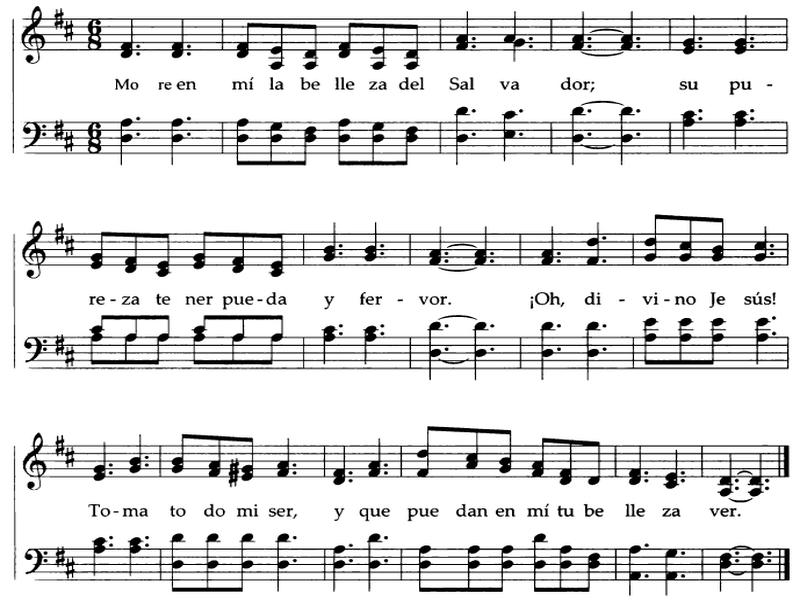C: (415, 421, 445, 482), (262, 20, 294, 72), (227, 113, 256, 170), (262, 109, 289, 170), (525, 430, 554, 481), (396, 124, 428, 170), (294, 116, 321, 170), (187, 225, 216, 274), (119, 230, 149, 277), (155, 228, 181, 282), (167, 429, 198, 474), (488, 541, 514, 594), (77, 233, 109, 274), (675, 212, 699, 266), (643, 211, 667, 263), (705, 216, 731, 264), (456, 544, 479, 597), (233, 14, 257, 64), (466, 426, 491, 474), (399, 17, 422, 69), (333, 20, 360, 64), (368, 20, 390, 73), (557, 437, 579, 490), (335, 119, 357, 171), (414, 547, 437, 596), (363, 119, 388, 164), (231, 231, 255, 275), (301, 21, 322, 71), (637, 317, 657, 369), (577, 549, 600, 594), (210, 434, 231, 482), (583, 441, 602, 494), (84, 334, 109, 373), (266, 232, 287, 277), (497, 427, 516, 474), (553, 544, 571, 593), (205, 560, 227, 599), (240, 431, 256, 484), (260, 333, 286, 365), (672, 316, 688, 365), (86, 307, 113, 335), (188, 334, 208, 370), (226, 333, 247, 367), (118, 335, 138, 369), (150, 332, 169, 365), (707, 315, 719, 366), (234, 559, 253, 591), (190, 312, 216, 335), (156, 314, 176, 342), (270, 312, 286, 344), (230, 314, 248, 342), (530, 562, 546, 593), (167, 560, 184, 589), (123, 316, 139, 346)
CF: (20, 328, 48, 374), (19, 114, 49, 156), (19, 543, 49, 582)
CS: (20, 215, 50, 284), (19, 3, 49, 70), (19, 432, 48, 498)
N: (610, 97, 634, 164), (267, 526, 289, 594), (468, 312, 488, 383), (535, 315, 556, 381), (745, 314, 770, 369), (327, 425, 348, 489), (449, 100, 467, 169), (120, 426, 144, 477), (318, 204, 337, 267), (365, 526, 382, 596), (624, 534, 642, 597), (314, 315, 336, 366), (167, 112, 185, 174), (423, 319, 439, 388), (583, 318, 600, 382), (566, 103, 584, 163), (472, 209, 490, 269), (115, 113, 133, 171), (499, 105, 516, 166), (718, 435, 734, 499), (89, 434, 109, 484), (115, 14, 137, 59), (624, 434, 642, 489), (661, 542, 679, 597), (166, 14, 187, 61), (361, 212, 379, 266), (751, 214, 769, 268), (427, 217, 446, 268), (712, 548, 733, 594), (729, 104, 749, 151), (364, 433, 382, 483), (123, 531, 142, 578), (538, 218, 556, 267), (273, 434, 291, 483), (678, 11, 697, 56), (749, 443, 764, 499), (746, 546, 765, 590), (359, 320, 377, 366), (88, 531, 107, 574), (681, 101, 696, 154), (663, 441, 678, 494), (585, 216, 600, 268), (329, 540, 344, 591), (454, 8, 470, 53), (573, 4, 587, 52), (734, 9, 748, 55), (499, 5, 515, 44), (621, 8, 633, 54), (531, 530, 548, 558), (236, 531, 255, 555), (168, 531, 186, 555), (514, 28, 525, 62), (203, 531, 217, 554)
P: (679, 468, 693, 487), (555, 343, 569, 359), (763, 475, 775, 493), (732, 550, 744, 566), (767, 546, 777, 565), (107, 534, 120, 548), (347, 470, 357, 487), (678, 569, 691, 582), (641, 540, 655, 552), (747, 106, 756, 124), (380, 556, 392, 569), (555, 248, 565, 263), (769, 241, 779, 256), (768, 328, 780, 340), (383, 460, 391, 478), (487, 343, 498, 356), (768, 314, 782, 324), (144, 534, 154, 547), (442, 249, 450, 265), (643, 468, 651, 484), (383, 534, 392, 548), (640, 571, 651, 582), (337, 242, 344, 259), (489, 248, 496, 264), (517, 105, 527, 116), (632, 129, 644, 138), (488, 323, 497, 335), (346, 555, 358, 564), (587, 128, 595, 141), (600, 254, 608, 267), (440, 344, 450, 354), (468, 131, 479, 140), (634, 104, 643, 115), (599, 345, 610, 354), (696, 107, 703, 121), (145, 454, 153, 466), (135, 44, 142, 57), (380, 242, 387, 255), (109, 464, 118, 474), (290, 533, 299, 543), (470, 107, 478, 117), (598, 234, 608, 242), (679, 549, 689, 557), (186, 43, 192, 56), (600, 320, 608, 329), (527, 42, 535, 50), (133, 129, 141, 137), (734, 477, 738, 493), (517, 131, 526, 138), (292, 555, 299, 564), (346, 544, 356, 550), (557, 322, 563, 331), (181, 130, 194, 134), (470, 43, 480, 48), (338, 330, 343, 340), (470, 35, 477, 42), (697, 42, 704, 49), (134, 114, 141, 121), (587, 34, 592, 43), (444, 323, 449, 332), (294, 461, 297, 476), (750, 42, 757, 48), (749, 36, 754, 44), (186, 112, 191, 120), (587, 106, 592, 114), (525, 36, 534, 40), (698, 34, 704, 40), (635, 35, 640, 42), (377, 331, 384, 336), (633, 42, 641, 46), (379, 324, 385, 329), (587, 43, 594, 47), (337, 323, 344, 327)
SOS: (47, 4, 67, 31), (49, 430, 67, 458), (65, 449, 79, 478), (51, 112, 66, 139), (53, 329, 67, 356), (66, 344, 80, 371), (64, 232, 77, 261), (51, 541, 64, 569), (65, 558, 79, 584), (52, 218, 67, 242), (62, 21, 77, 43), (63, 130, 76, 155), (229, 458, 239, 489)
